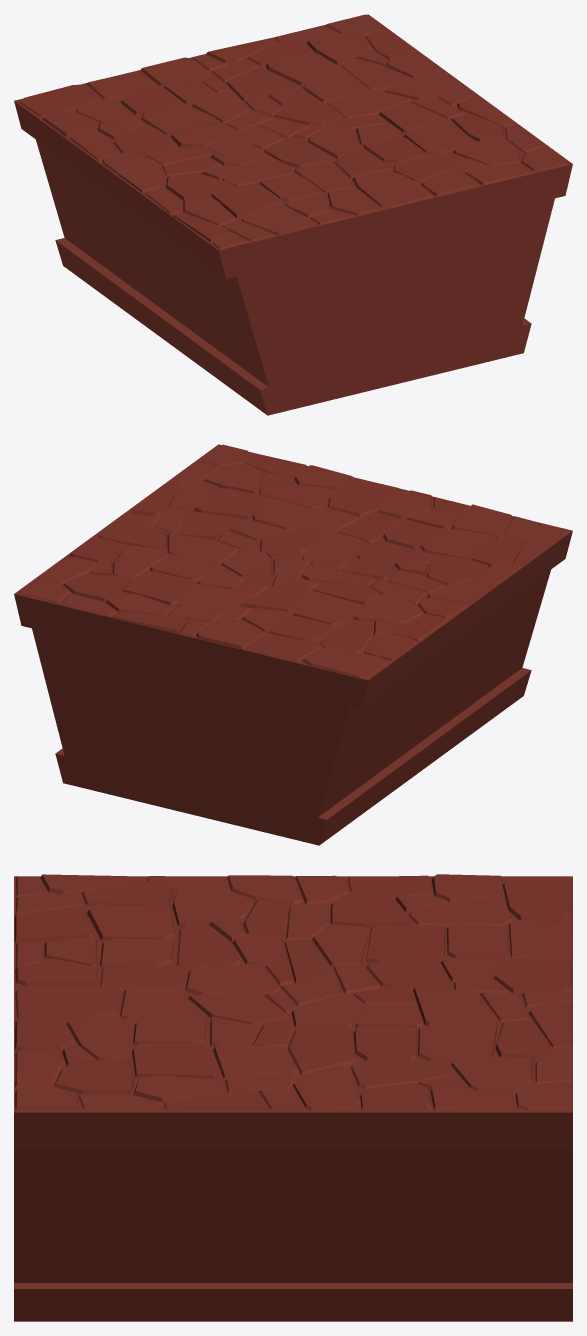
Rendered from platform_001.fbx.
3 renders of one model, top to bottom at view 1: azimuth 30°, elevation 25°; view 2: azimuth 150°, elevation 25°; view 3: azimuth 270°, elevation 25°, orthographic. The views are drawn at different scales.
Parts seen in each view (by area): view 1: platform_001; view 2: platform_001; view 3: platform_001.
Part boxes in pixels (x1,y1,x2,y2): platform_001: (14, 14, 572, 415); platform_001: (14, 444, 572, 845); platform_001: (14, 874, 572, 1321).
Bounding box in the file's own units: 1000 × 1000 × 486.
